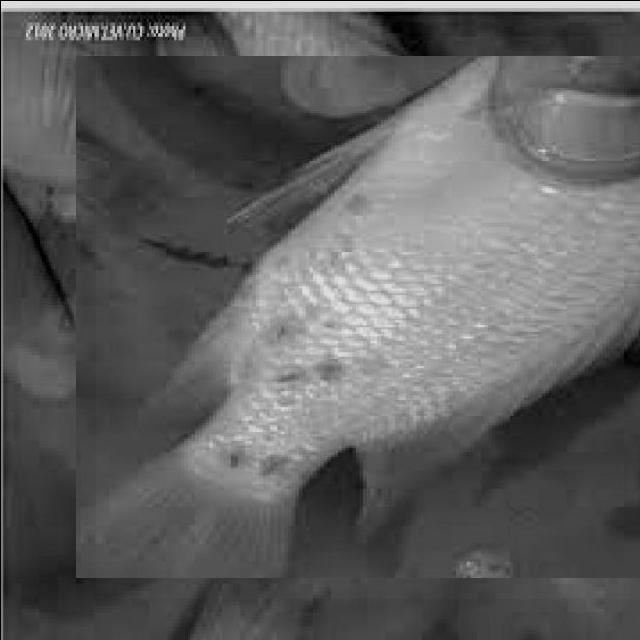EUS Disease: (95, 35, 640, 598), (248, 236, 541, 529)
